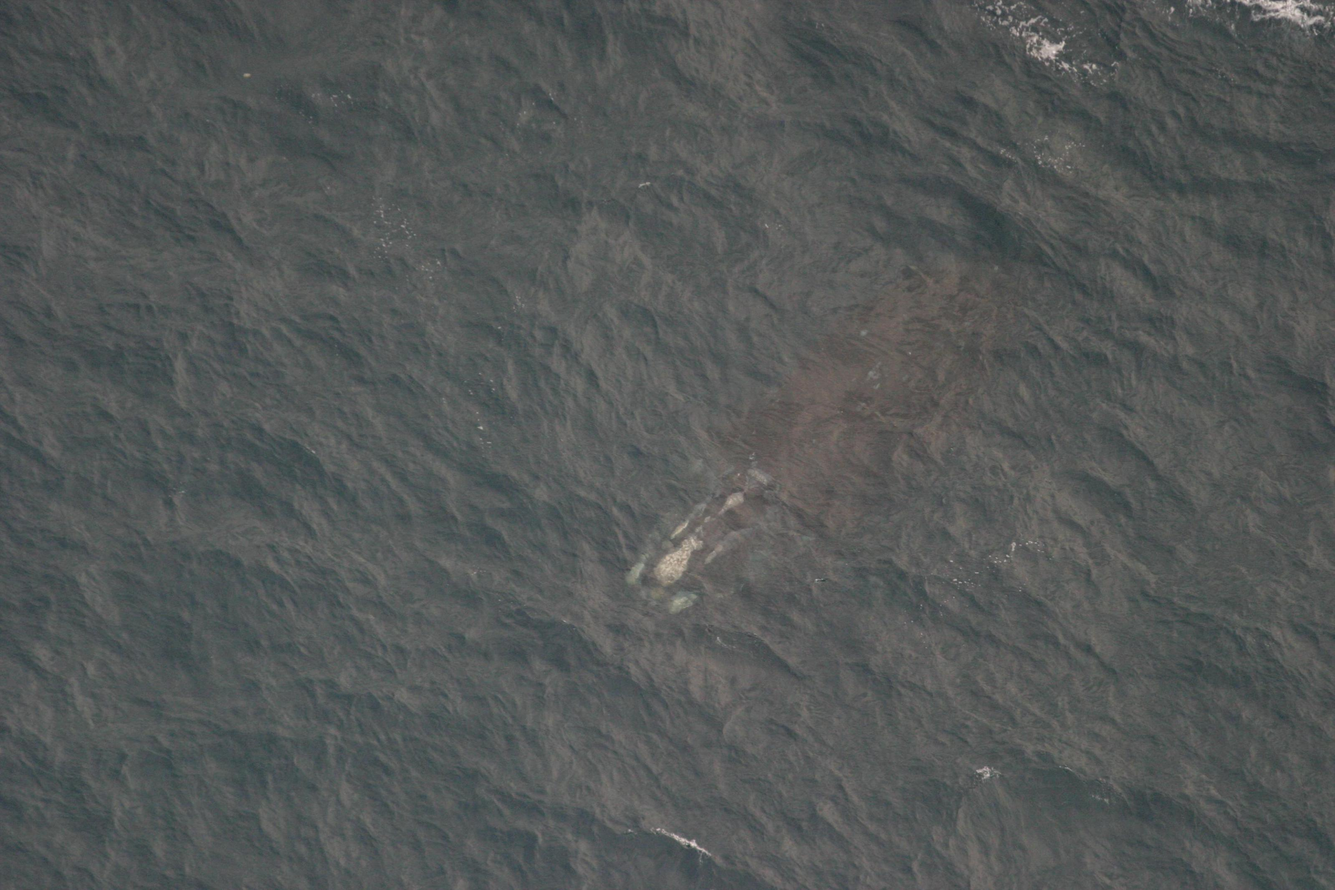whale: (619, 254, 1016, 632)
